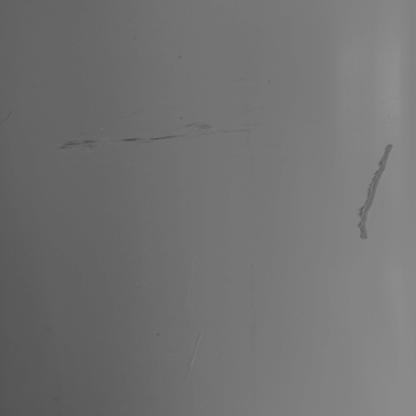sunshang: (352, 145, 397, 241), (58, 125, 228, 148)
